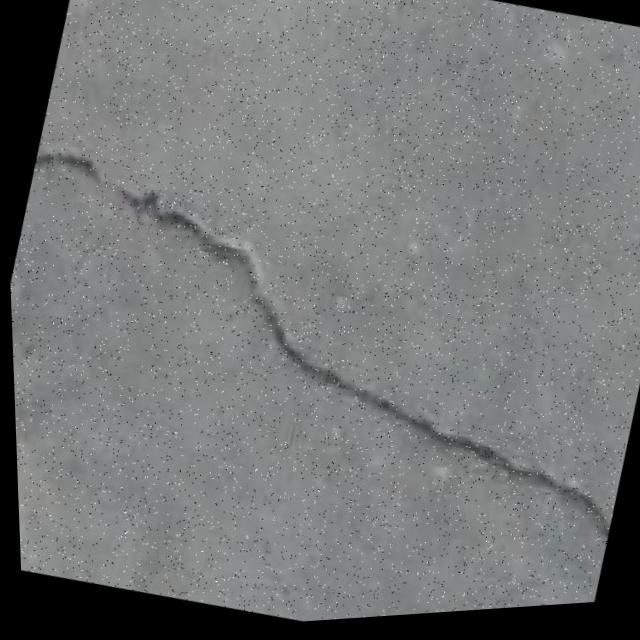Crack: (4, 95, 640, 583)
